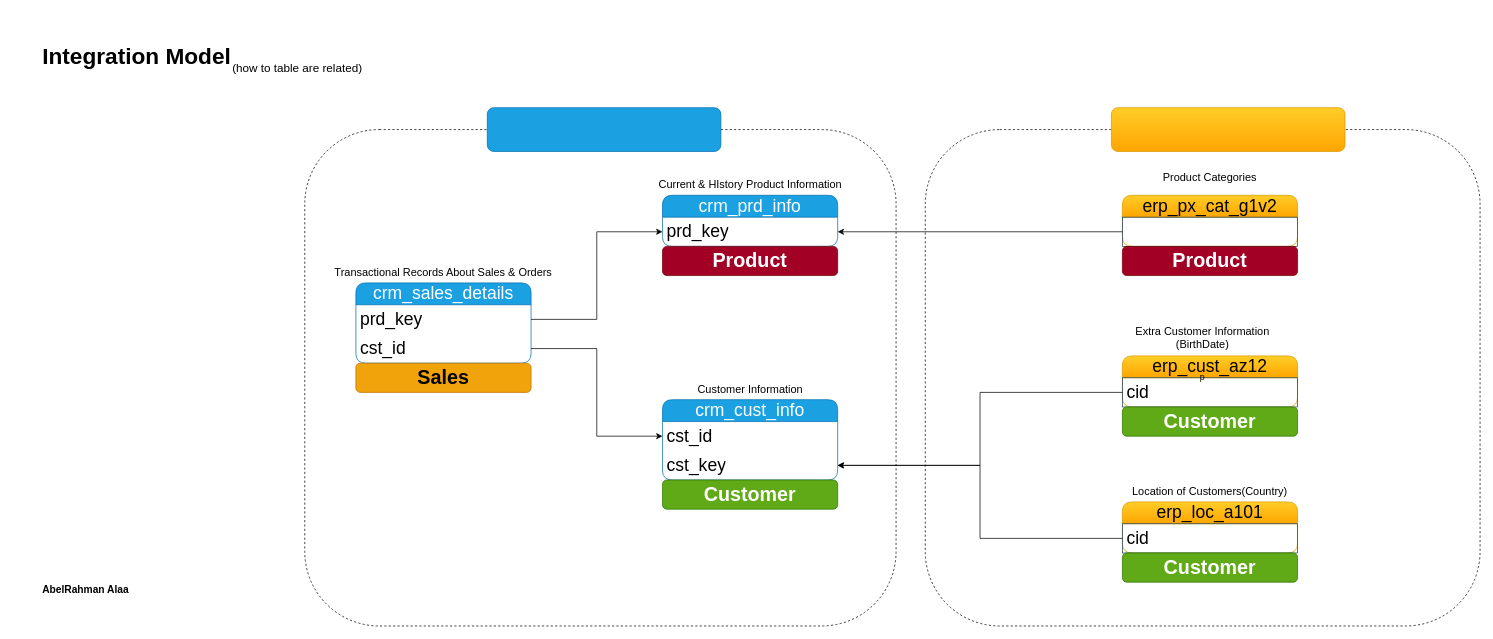
Image size: 1493x639. Some labels were removed from this diagram. The shapes that lost their labels are listed below. From the top down, each one's centre as x and y in pixels, then its label:
At (604,129): "CRM".
At (1228,129): "ERP".
At (1210,231): "id".
